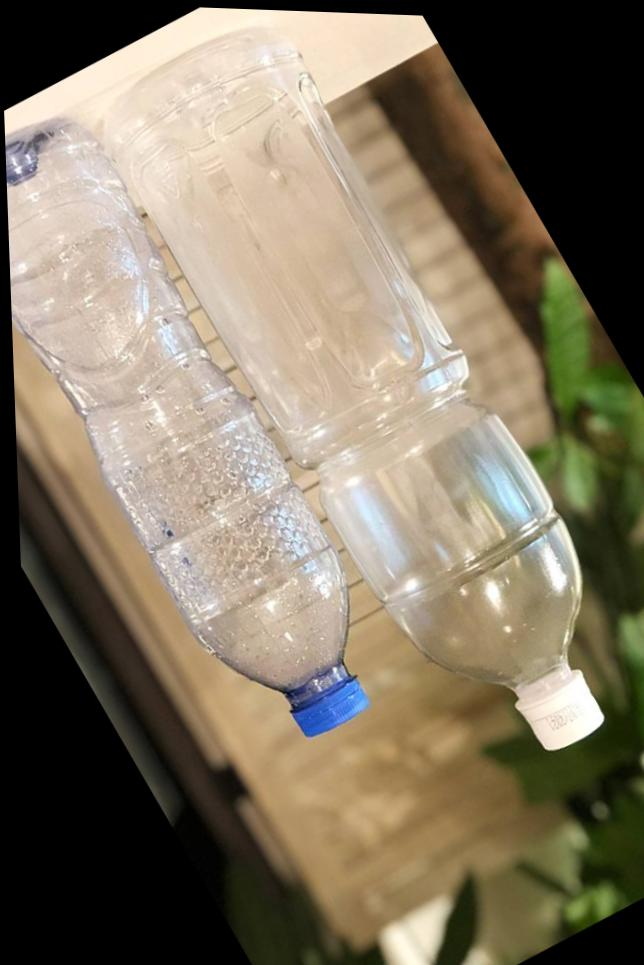plastic: (84, 3, 644, 799), (4, 95, 423, 774)
